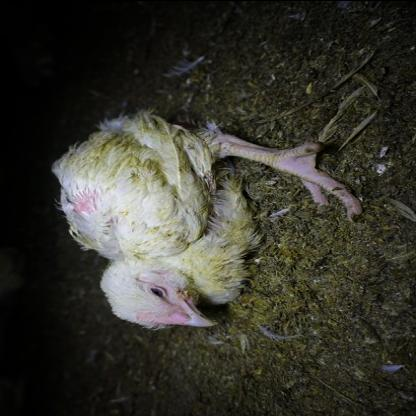Unhealthy: (35, 86, 368, 332)
